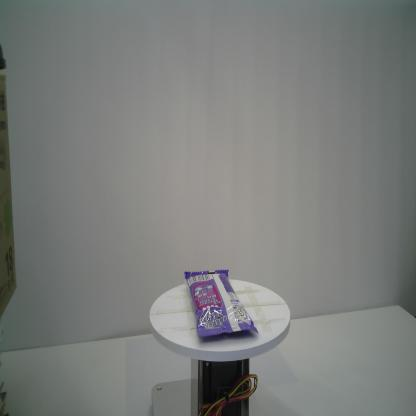Candy: (183, 269, 259, 339)
